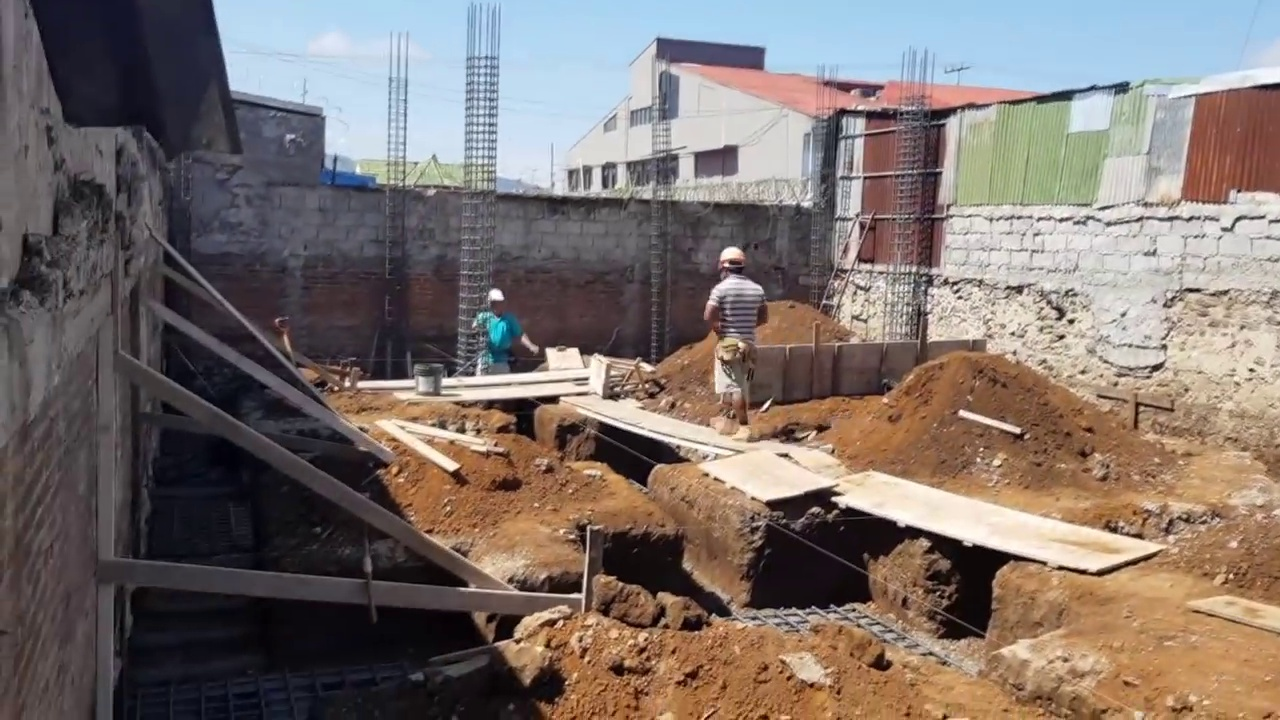helmet: (718, 247, 747, 265), (485, 288, 505, 303)
helmet-on: (717, 246, 749, 282), (483, 285, 507, 319)
person: (704, 244, 770, 438), (470, 285, 539, 377)
